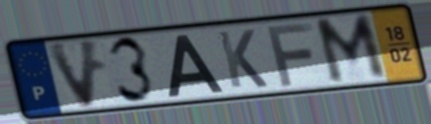3: (105, 34, 158, 105)
A: (166, 32, 227, 99)
F: (263, 20, 317, 88)
K: (214, 27, 271, 90)
M: (311, 11, 391, 87)
V: (43, 37, 102, 112)
